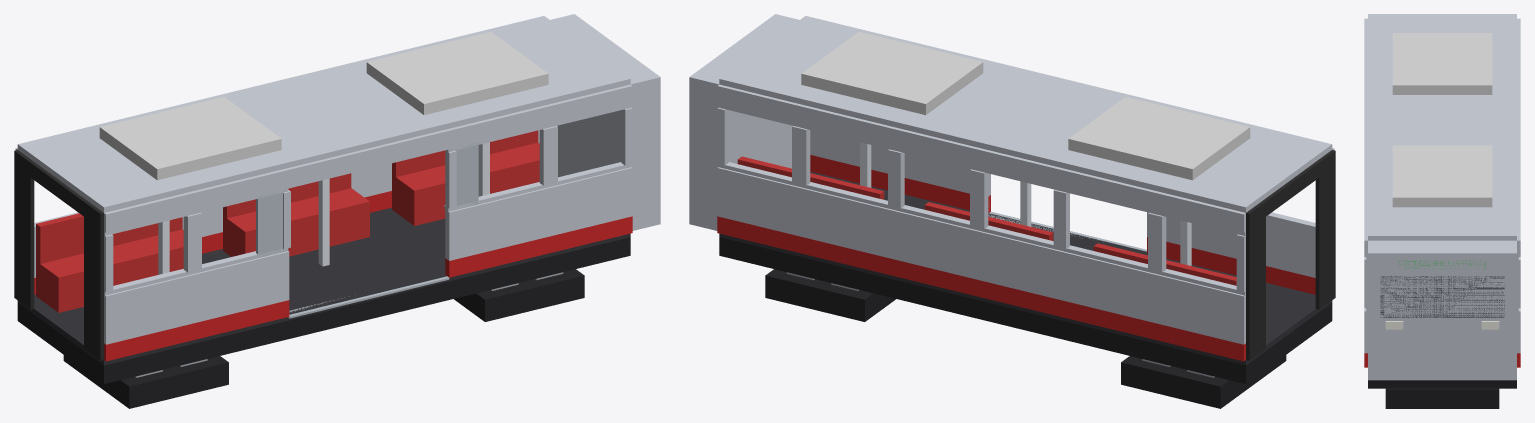
The model's file is metro_wagon_lead_l3.obj.
3 views of the same model, side by side, from view 1: azimuth 30°, elevation 25°; view 2: azimuth 150°, elevation 25°; view 3: azimuth 270°, elevation 25° (orthographic). The views are drawn at different scales.
Bounding box in the file's own units: 3.16 × 1.26 × 0.88.
